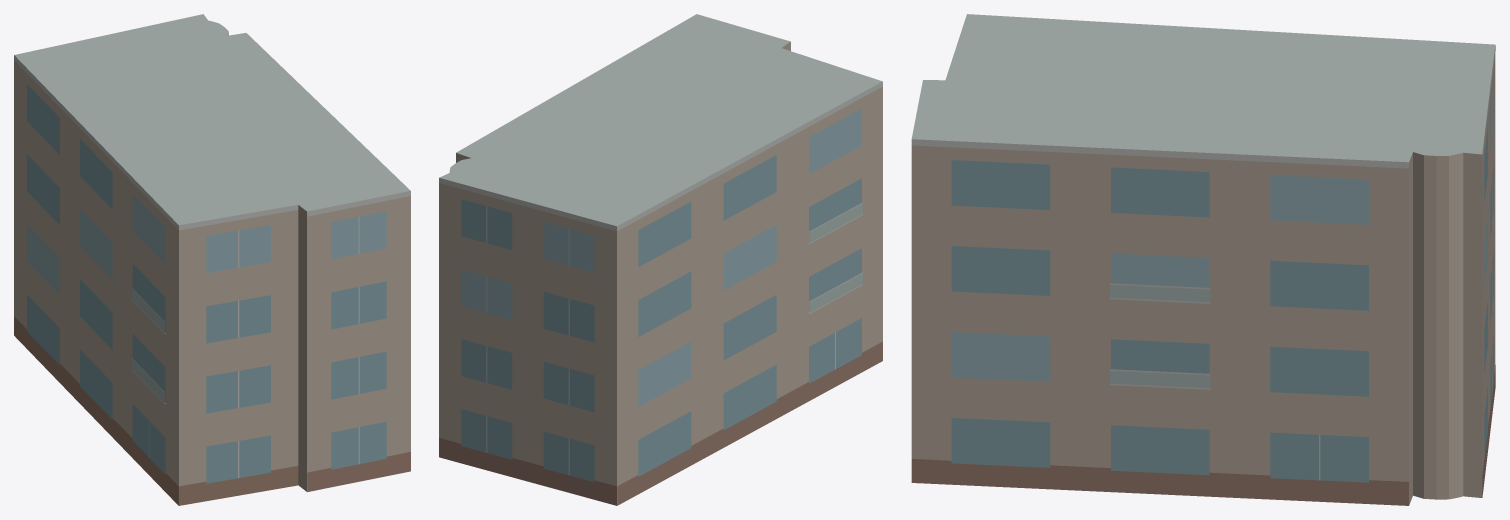
Rendered from survey-upis-32613554.glb.
3 views of the same model, side by side, from view 1: azimuth 30°, elevation 25°; view 2: azimuth 150°, elevation 25°; view 3: azimuth 270°, elevation 25° (orthographic). The views are drawn at different scales.
Parts seen in each view (by area): view 1: survey-upis-32613554.tmp; view 2: survey-upis-32613554.tmp; view 3: survey-upis-32613554.tmp.
Boxes of the visible parts, bbox=[...] form: survey-upis-32613554.tmp: bbox=[14, 14, 410, 505]; survey-upis-32613554.tmp: bbox=[439, 14, 882, 505]; survey-upis-32613554.tmp: bbox=[911, 14, 1495, 505].
Size of the model in its own units: 12.41 by 13.4 by 20.64.
